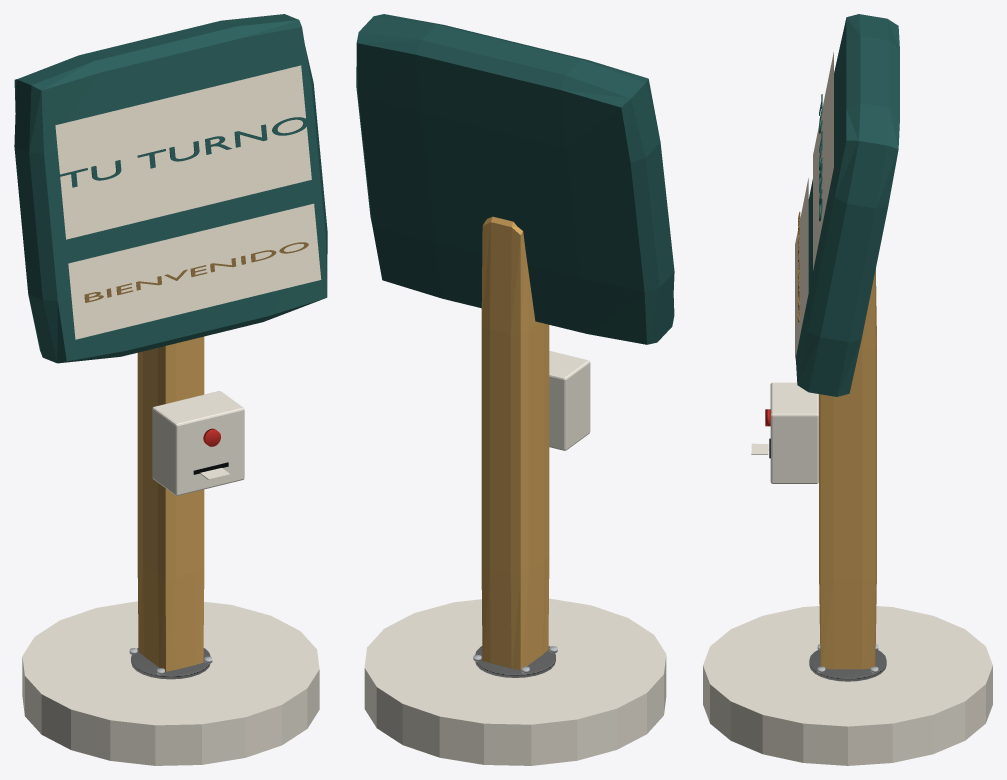
File: hiperreal.glb
3 views of the same model, side by side, from view 1: azimuth 30°, elevation 25°; view 2: azimuth 150°, elevation 25°; view 3: azimuth 270°, elevation 25° (orthographic). The views are drawn at different scales.
Parts seen in each view (by area): view 1: Native component 2, Native component 0, Native component 3, Native component 4, Native component 1, Hiperreal dispensador de tiques, Sign TU TURNO, Sign BIENVENIDO, Hiperreal brida del poste; view 2: Native component 2, Native component 0, Native component 1, Hiperreal dispensador de tiques, Hiperreal brida del poste; view 3: Native component 0, Native component 2, Native component 1, Hiperreal dispensador de tiques, Native component 3, Native component 4, Hiperreal brida del poste.
Part boxes in pixels (<box>): Native component 2: <box>14,14,327,363</box>; Native component 0: <box>22,601,319,765</box>; Native component 3: <box>55,65,311,239</box>; Native component 4: <box>68,203,321,339</box>; Native component 1: <box>137,336,204,671</box>; Hiperreal dispensador de tiques: <box>152,391,244,495</box>; Sign TU TURNO: <box>59,117,308,187</box>; Sign BIENVENIDO: <box>84,242,308,302</box>; Hiperreal brida del poste: <box>131,648,210,679</box>; Native component 2: <box>356,14,674,344</box>; Native component 0: <box>364,598,666,765</box>; Native component 1: <box>481,216,549,670</box>; Hiperreal dispensador de tiques: <box>549,351,590,450</box>; Hiperreal brida del poste: <box>475,646,555,677</box>; Native component 0: <box>703,606,992,765</box>; Native component 2: <box>796,14,899,396</box>; Native component 1: <box>819,269,876,669</box>; Hiperreal dispensador de tiques: <box>770,382,818,483</box>; Native component 3: <box>813,52,833,270</box>; Native component 4: <box>795,178,808,360</box>; Hiperreal brida del poste: <box>809,650,886,681</box>.
Bounding box in the file's own units: 0.66 × 1.45 × 0.6.
